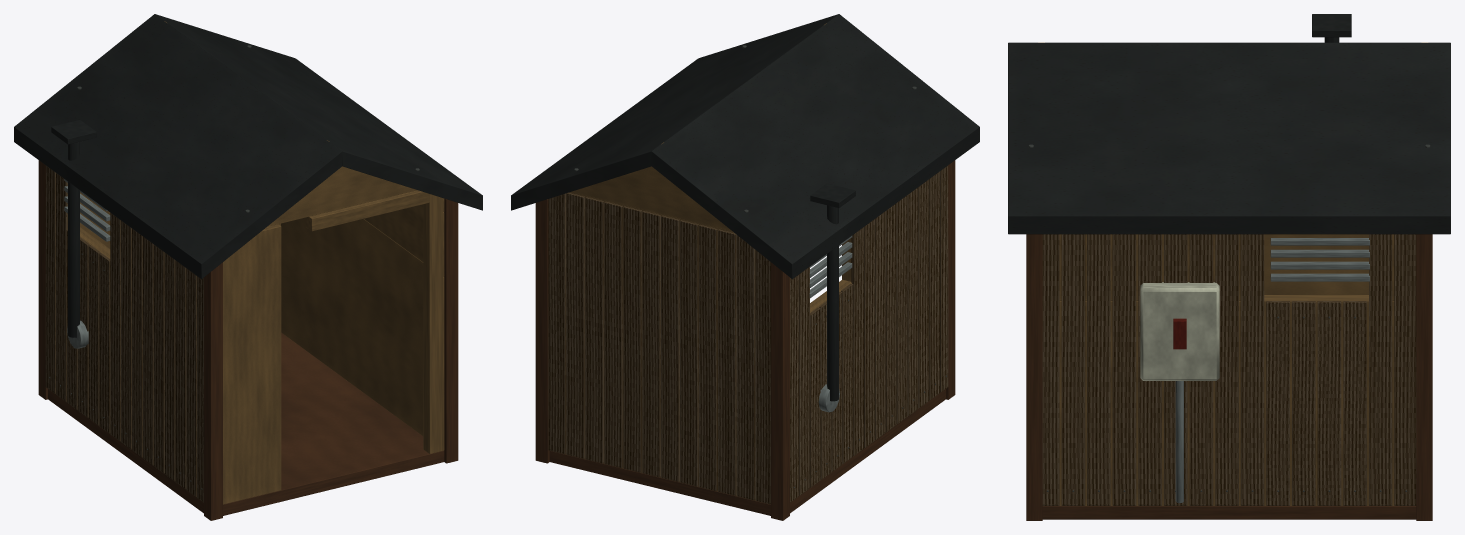
The model's file is level_camp_dock_shed_refined.glb.
The picture shows the model from 3 angles, left to right: view 1: azimuth 30°, elevation 25°; view 2: azimuth 150°, elevation 25°; view 3: azimuth 270°, elevation 25°; orthographic projection. The views are drawn at different scales.
Visible parts, largest first — view 1: level_camp_dock_shed_refined; view 2: level_camp_dock_shed_refined; view 3: level_camp_dock_shed_refined.
Boxes of the visible parts, x1,y1,x2,y2 form: level_camp_dock_shed_refined: (14,14,482,520); level_camp_dock_shed_refined: (511,14,979,520); level_camp_dock_shed_refined: (1008,14,1450,520).
Bounding box in the file's own units: 2.36 × 2.72 × 2.68.
Materials: 9 (9 with a texture image).
